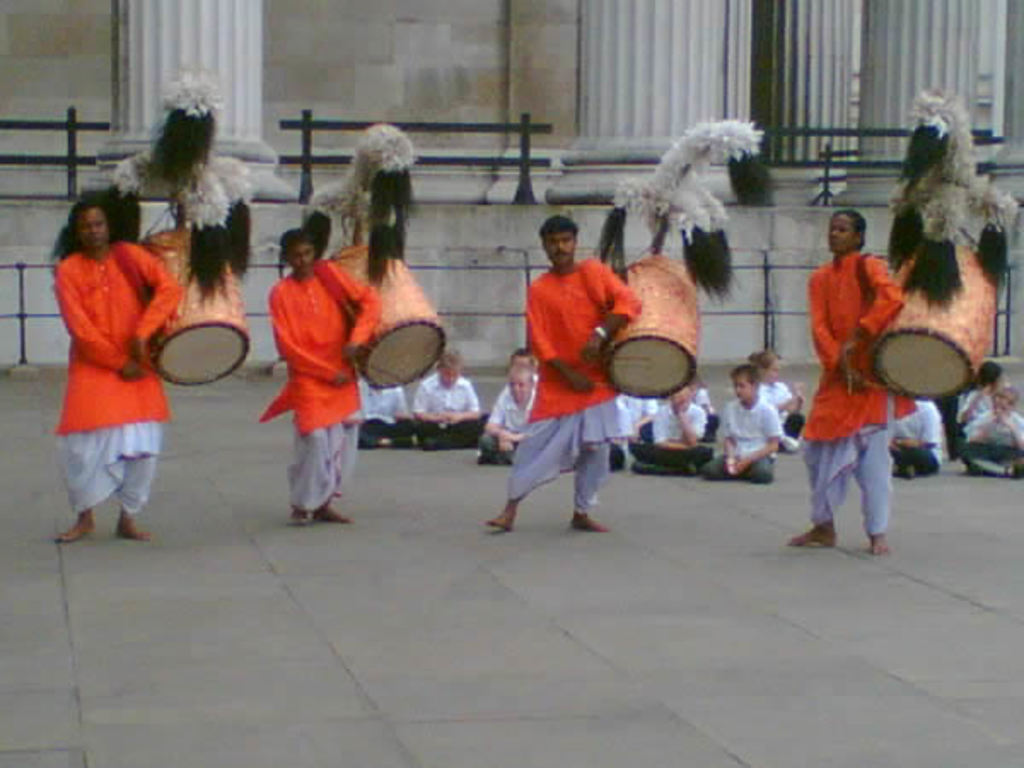Person: (341, 341, 1024, 498), (486, 200, 659, 569), (241, 213, 407, 542), (779, 195, 920, 575), (51, 201, 184, 542)
